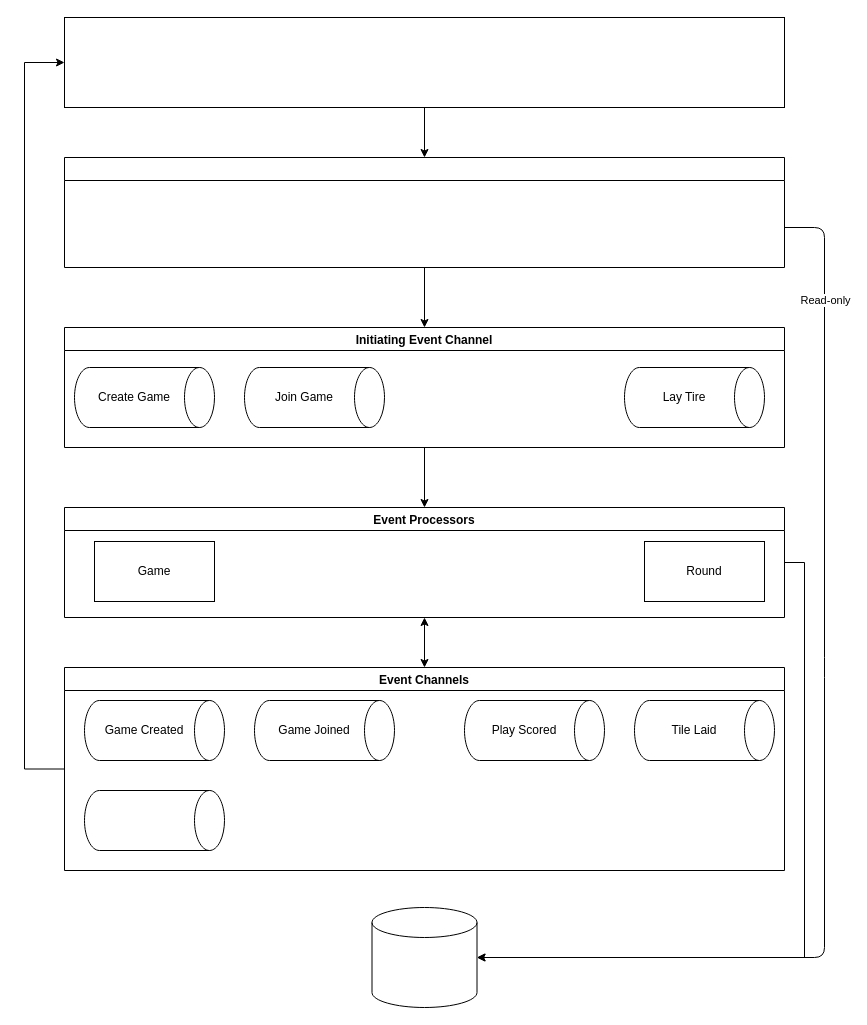
Image size: 867x1025. Some labels were removed from this diagram. Each missing label, with the centre of its shape:
API Layer: [424,212]
Dominoes Datastore: [424,957]
Dominoes UI (Web): [424,62]
Play Score Updated: [154,820]
